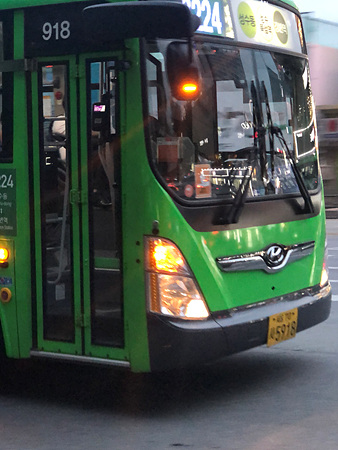entrance: (31, 53, 132, 367)
